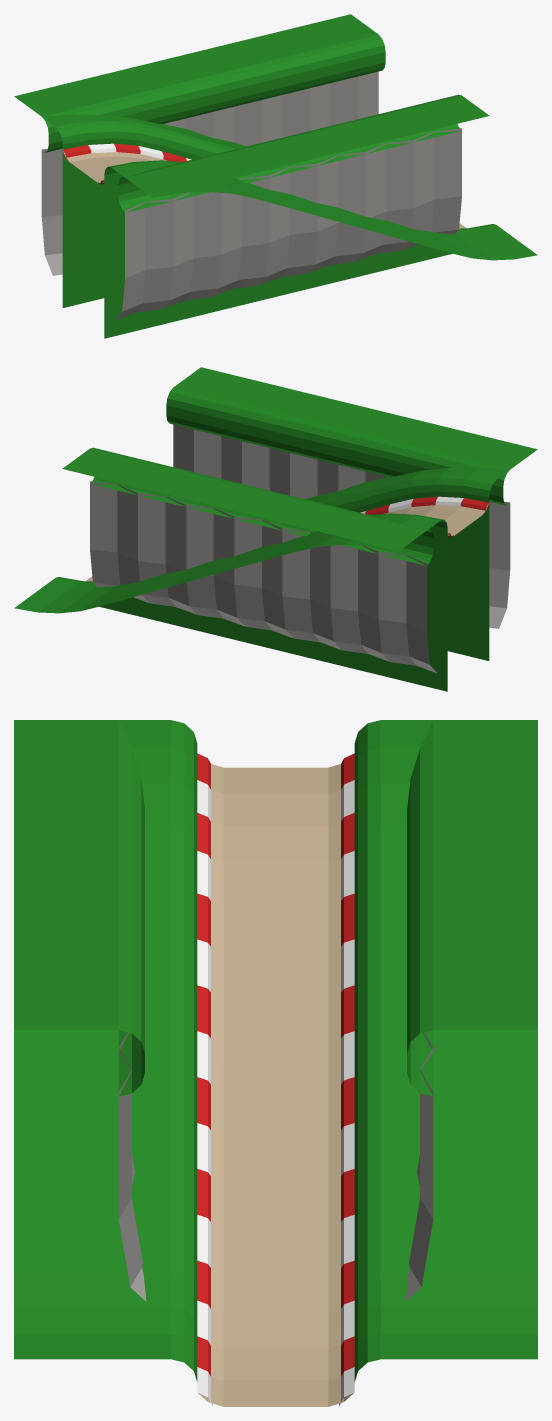
The model's file is Track_Cliff_Incline_Striped_3_Tall_Single.obj.
3 views of the same model, one above another, from view 1: azimuth 30°, elevation 25°; view 2: azimuth 150°, elevation 25°; view 3: azimuth 270°, elevation 25° (orthographic). The views are drawn at different scales.
Parts seen in each view (by area): view 1: Grass, Rock, Dirt, Raceline_Color_2, Raceline_Color_1; view 2: Grass, Rock, Dirt, Raceline_Color_2, Raceline_Color_1; view 3: Grass, Dirt, Raceline_Color_1, Raceline_Color_2, Rock.
Boxes of the visible parts, x1,y1,x2,y2 form: Grass: [14, 14, 537, 338]; Rock: [41, 71, 461, 320]; Dirt: [63, 151, 466, 228]; Raceline_Color_2: [63, 143, 186, 184]; Raceline_Color_1: [88, 143, 191, 160]; Grass: [14, 367, 537, 691]; Rock: [90, 424, 510, 673]; Dirt: [85, 504, 488, 581]; Raceline_Color_2: [365, 496, 488, 537]; Raceline_Color_1: [360, 496, 463, 513]; Grass: [14, 720, 537, 1381]; Dirt: [198, 764, 353, 1406]; Raceline_Color_1: [197, 780, 354, 1405]; Raceline_Color_2: [197, 753, 354, 1376]; Rock: [118, 1032, 433, 1301].
Bounding box in the file's own units: 8 × 3.5 × 5.
